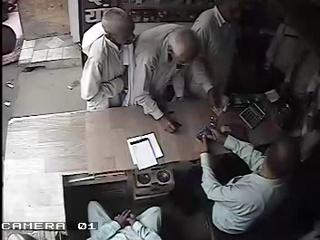Normal: (198, 90, 304, 239), (123, 23, 200, 134), (188, 0, 245, 110), (86, 200, 164, 240)
shoplifting: (80, 8, 136, 112)
